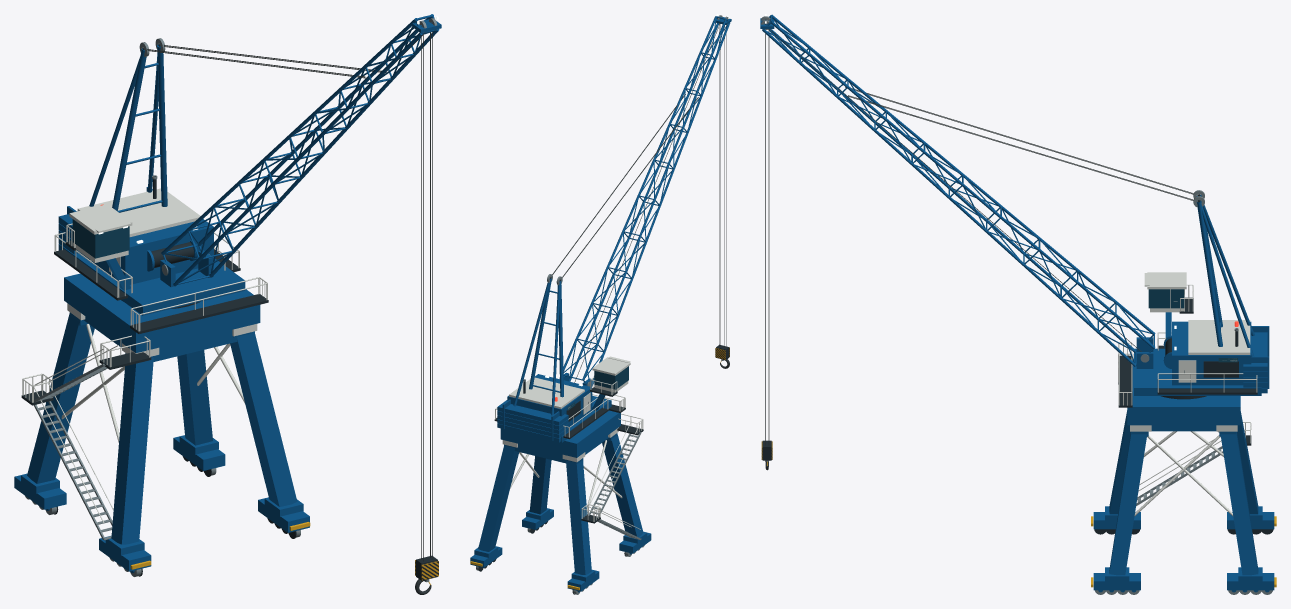
File: portal_crane_lod1.glb
The picture shows the model from 3 angles, left to right: view 1: azimuth 30°, elevation 25°; view 2: azimuth 150°, elevation 25°; view 3: azimuth 270°, elevation 25°; orthographic projection. The views are drawn at different scales.
Parts seen in each view (by area): view 1: base__simplified, slew__simplified, boom__simplified, rigging__simplified, hook__simplified; view 2: base__simplified, slew__simplified, boom__simplified, rigging__simplified; view 3: base__simplified, slew__simplified, boom__simplified, rigging__simplified.
Boxes of the visible parts, box(x1,y1,x2,y2) form: base__simplified: box(14, 273, 310, 576); slew__simplified: box(54, 38, 245, 315); boom__simplified: box(161, 14, 441, 286); rigging__simplified: box(147, 32, 432, 561); hook__simplified: box(415, 555, 438, 594); base__simplified: box(470, 394, 651, 594); slew__simplified: box(494, 274, 630, 442); boom__simplified: box(563, 14, 731, 386); rigging__simplified: box(550, 23, 726, 382); base__simplified: box(1091, 342, 1276, 594); slew__simplified: box(1134, 190, 1269, 399); boom__simplified: box(760, 14, 1155, 366); rigging__simplified: box(765, 29, 1197, 445).
Bounding box in the file's own units: 12.38 × 43.39 × 37.18.
12 materials, 2 textured.
